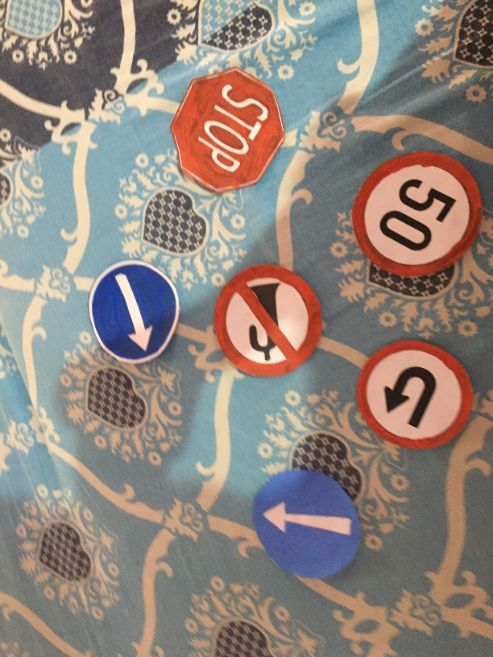go-stright: (89, 260, 185, 356)
keep-left: (254, 468, 368, 582)
no-horn: (216, 264, 323, 371)
speed-50: (354, 151, 479, 276)
stop: (171, 69, 287, 185)
u-turn: (357, 339, 464, 446)
